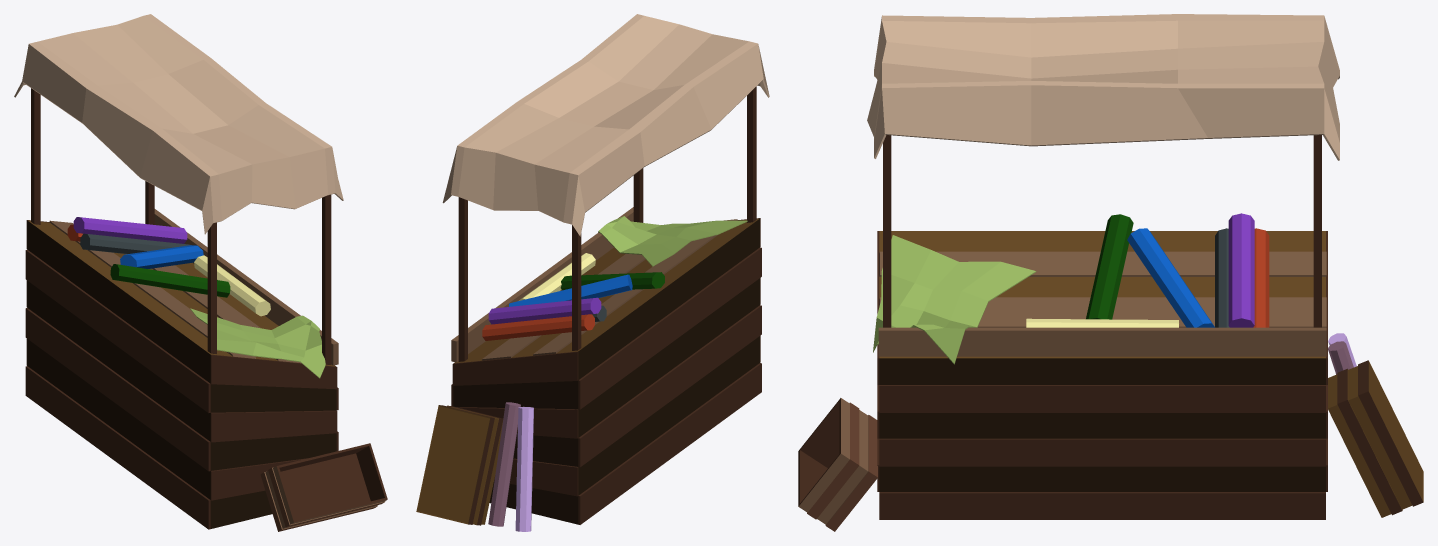
The model's file is stragan3.fbx.
The picture shows the model from 3 angles, left to right: view 1: azimuth 30°, elevation 25°; view 2: azimuth 150°, elevation 25°; view 3: azimuth 270°, elevation 25°; orthographic projection. The views are drawn at different scales.
Visible parts, largest first — view 1: stragan3; view 2: stragan3; view 3: stragan3.
Part boxes in pixels (box(x1,y1,x2,y2)): stragan3: box(14, 14, 387, 531); stragan3: box(416, 14, 769, 531); stragan3: box(798, 14, 1423, 531).
Bounding box in the file's own units: 92.82 × 201 × 264.
